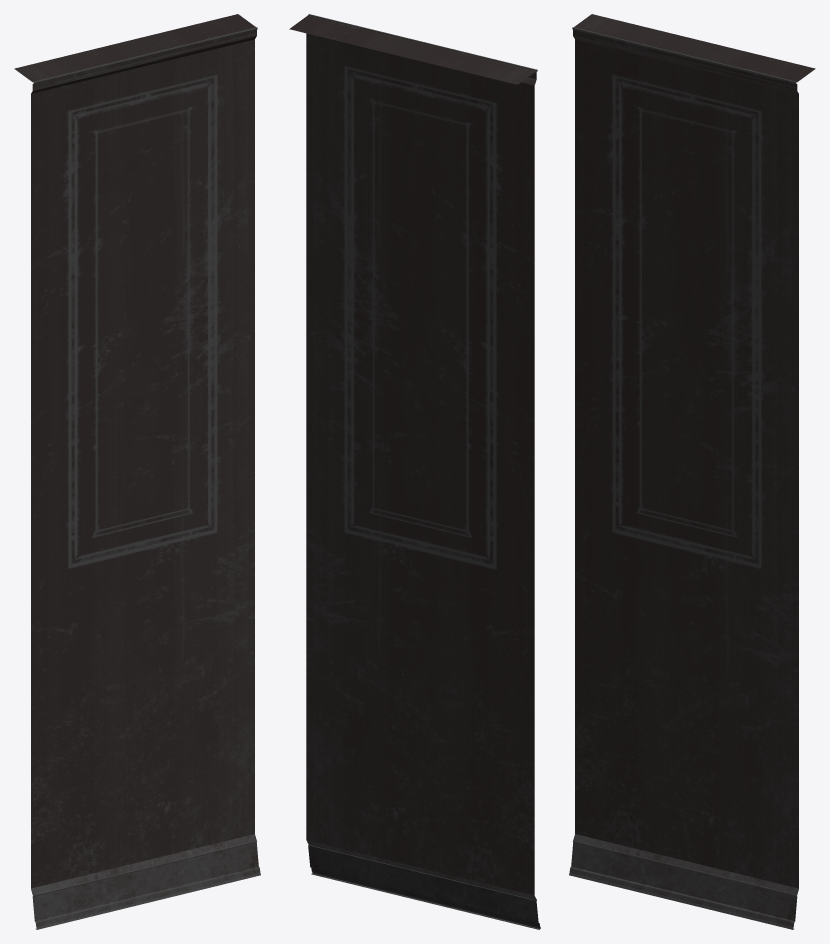
File: sm_paneling_narrow.FBX
3 renders of one model, left to right at view 1: azimuth 30°, elevation 25°; view 2: azimuth 150°, elevation 25°; view 3: azimuth 330°, elevation 25°, orthographic.
Parts seen in each view (by area): view 1: paneling_uvs; view 2: paneling_uvs; view 3: paneling_uvs.
Boxes of the visible parts, x1=… form: paneling_uvs: x1=14, y1=14, x2=260, y2=929; paneling_uvs: x1=289, y1=14, x2=540, y2=929; paneling_uvs: x1=569, y1=14, x2=815, y2=929.
Bounding box in the file's own units: 200 × 721 × 35.3.
Materials: 1 (1 with a texture image).
